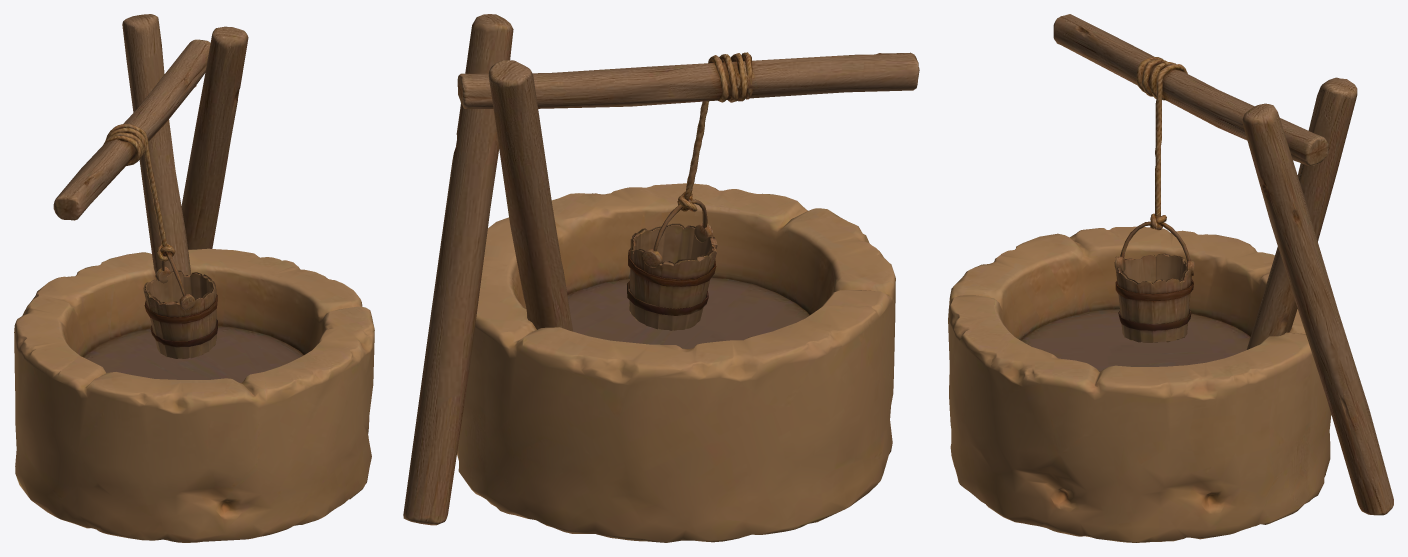
File: well.glb
The picture shows the model from 3 angles, left to right: view 1: azimuth 30°, elevation 25°; view 2: azimuth 150°, elevation 25°; view 3: azimuth 270°, elevation 25°; orthographic projection. The views are drawn at different scales.
Visible parts, largest first — view 1: ch1.well.001; view 2: ch1.well.001; view 3: ch1.well.001.
Boxes of the visible parts, x1=… form: ch1.well.001: x1=14, y1=14, x2=374, y2=542; ch1.well.001: x1=403, y1=14, x2=919, y2=542; ch1.well.001: x1=948, y1=14, x2=1393, y2=542.
Size of the model in its own units: 0.9043 by 0.998 by 0.998.
Materials: 1 (1 with a texture image).
